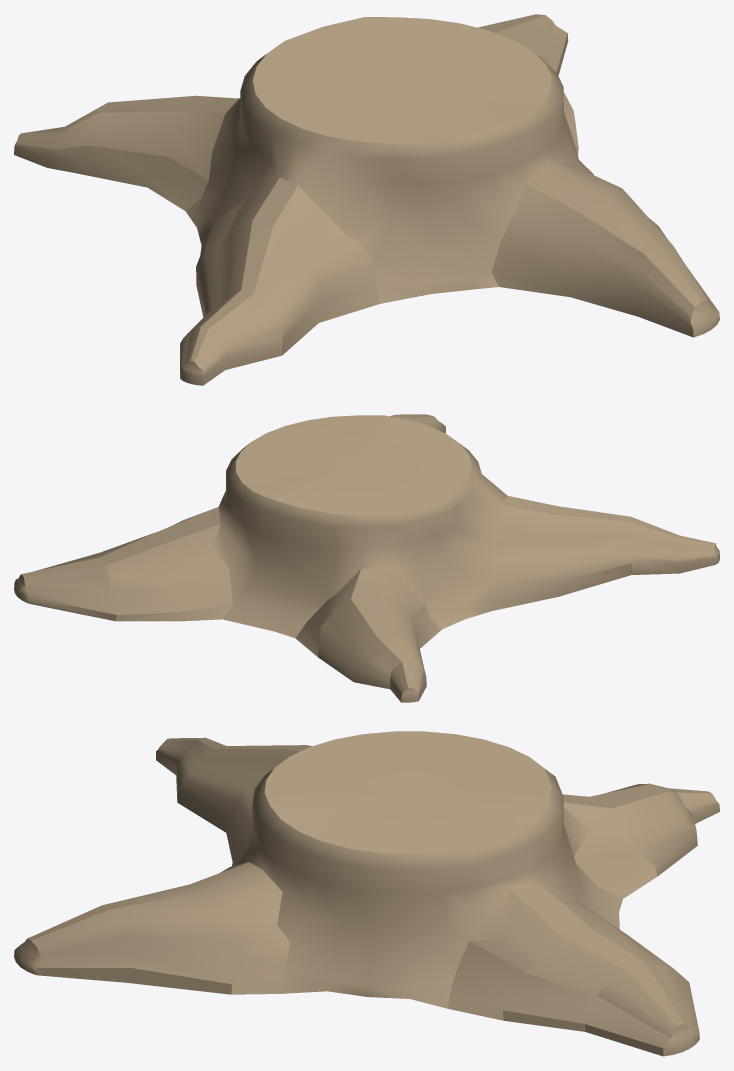
Rendered from TreeTrunk_Model_SC.fbx.
3 renders of one model, top to bottom at view 1: azimuth 30°, elevation 25°; view 2: azimuth 150°, elevation 25°; view 3: azimuth 270°, elevation 25°, orthographic. The views are drawn at different scales.
Parts seen in each view (by area): view 1: treetrunk; view 2: treetrunk; view 3: treetrunk.
Boxes of the visible parts, x1,y1,x2,y2 form: treetrunk: (14, 14, 719, 385); treetrunk: (14, 414, 719, 702); treetrunk: (14, 731, 719, 1056).
Size of the model in its own units: 1.54 by 0.3053 by 1.52.
